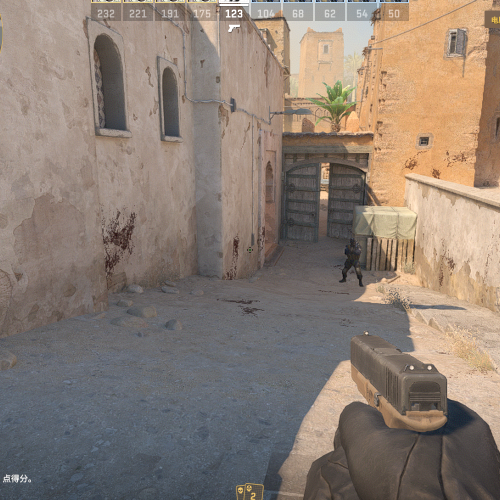ct_body: (340, 236, 365, 288)
ct_head: (349, 237, 357, 246)
